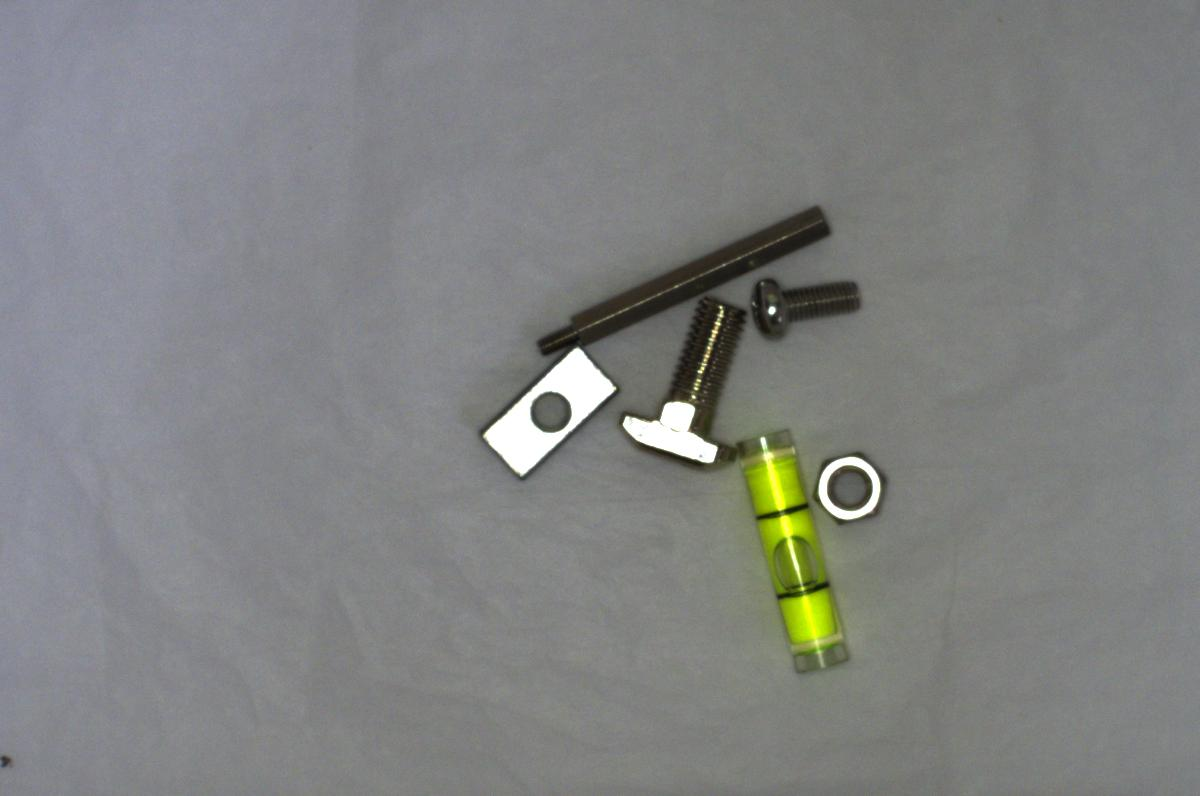Hexagon nut: (806, 446, 890, 529)
Hexagonal steel column: (533, 200, 834, 350)
Horizontal bubble: (739, 414, 850, 672)
Rectangular nut: (471, 342, 620, 478)
Round head screw: (744, 270, 868, 345)
T-shaped screw: (617, 295, 741, 472)
